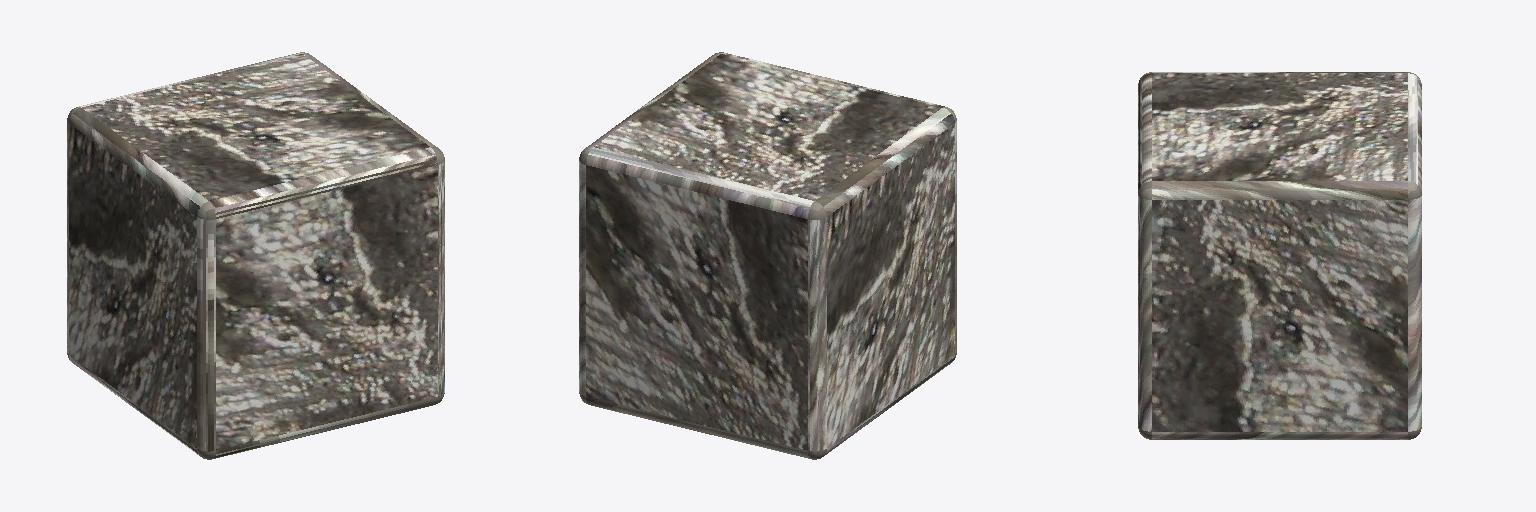
3 renders of one model, left to right at view 1: azimuth 30°, elevation 25°; view 2: azimuth 150°, elevation 25°; view 3: azimuth 270°, elevation 25°, orthographic.
Parts seen in each view (by area): view 1: Cube; view 2: Cube; view 3: Cube.
Boxes of the visible parts, <box> form: Cube: <box>67,52,444,459</box>; Cube: <box>579,52,956,459</box>; Cube: <box>1138,72,1421,439</box>.
Bounding box in the file's own units: 2 × 2 × 2.
1 materials, 1 textured.